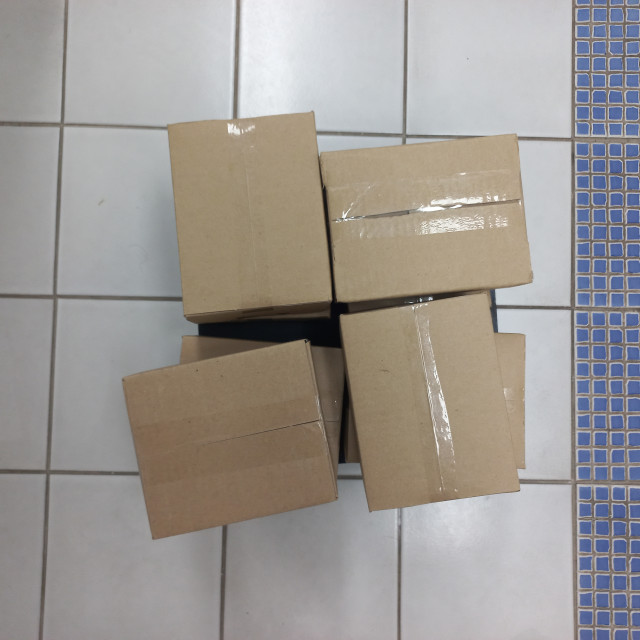box: (117, 335, 341, 543), (336, 289, 520, 514), (163, 109, 336, 320), (319, 129, 536, 293), (303, 97, 471, 306), (170, 125, 307, 350), (158, 330, 320, 509), (309, 313, 438, 530)
